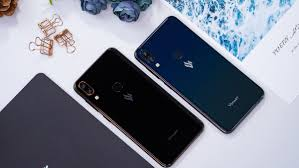vsmart: (65, 42, 205, 168), (133, 13, 270, 139)
